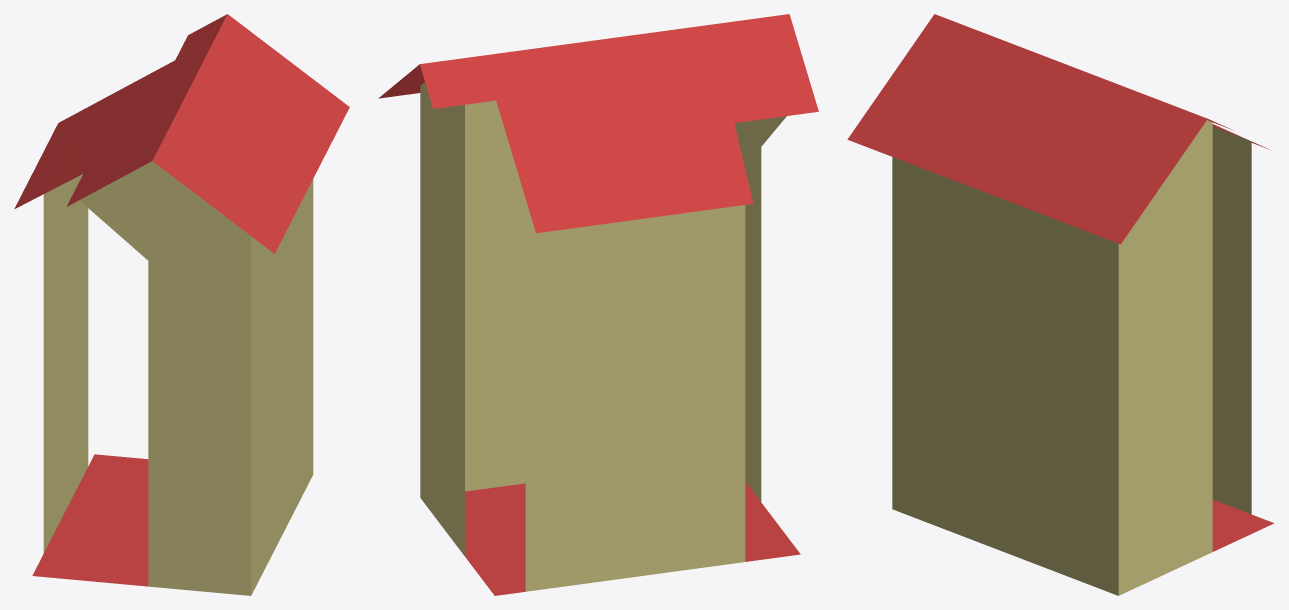
3 views of the same model, side by side, from view 1: azimuth 30°, elevation 25°; view 2: azimuth 150°, elevation 25°; view 3: azimuth 270°, elevation 25° (orthographic). The views are drawn at different scales.
Size of the model in its own units: 9.96 by 10.08 by 11.85.
